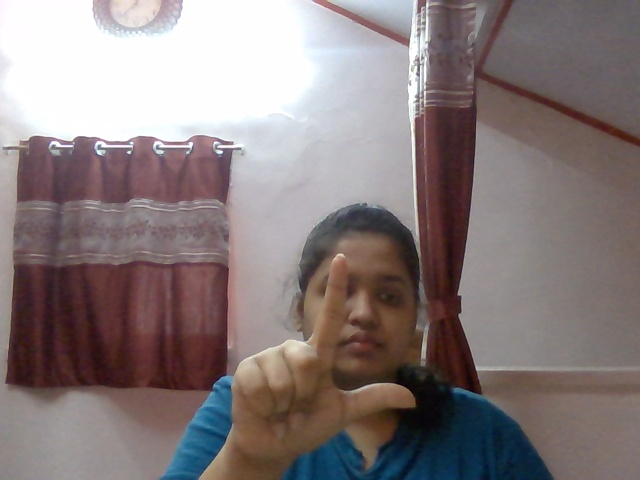l: (219, 243, 415, 462)
